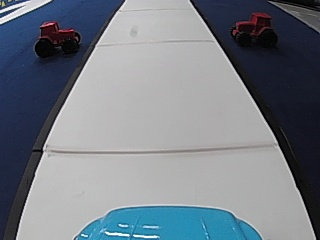tractor: (229, 9, 278, 48), (33, 18, 81, 57)
